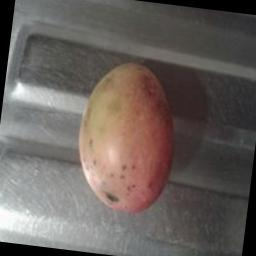Mango Unripe: (59, 44, 196, 222)
